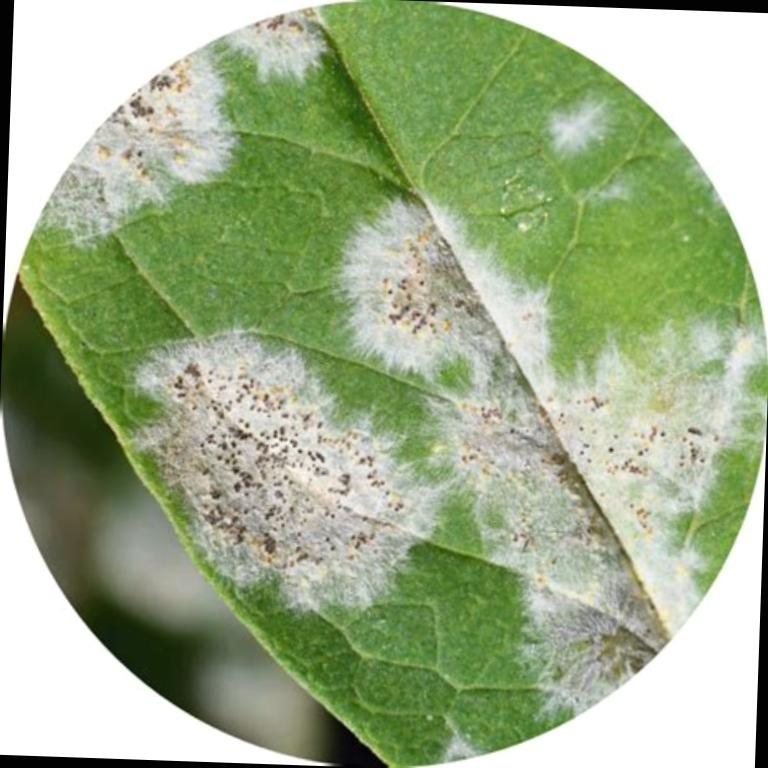powdery-mildew: (212, 174, 646, 608)
